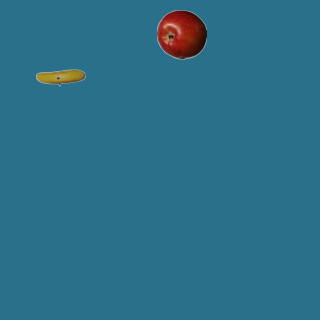Apple Braeburn: (156, 9, 206, 59)
Banana: (35, 52, 85, 102)
